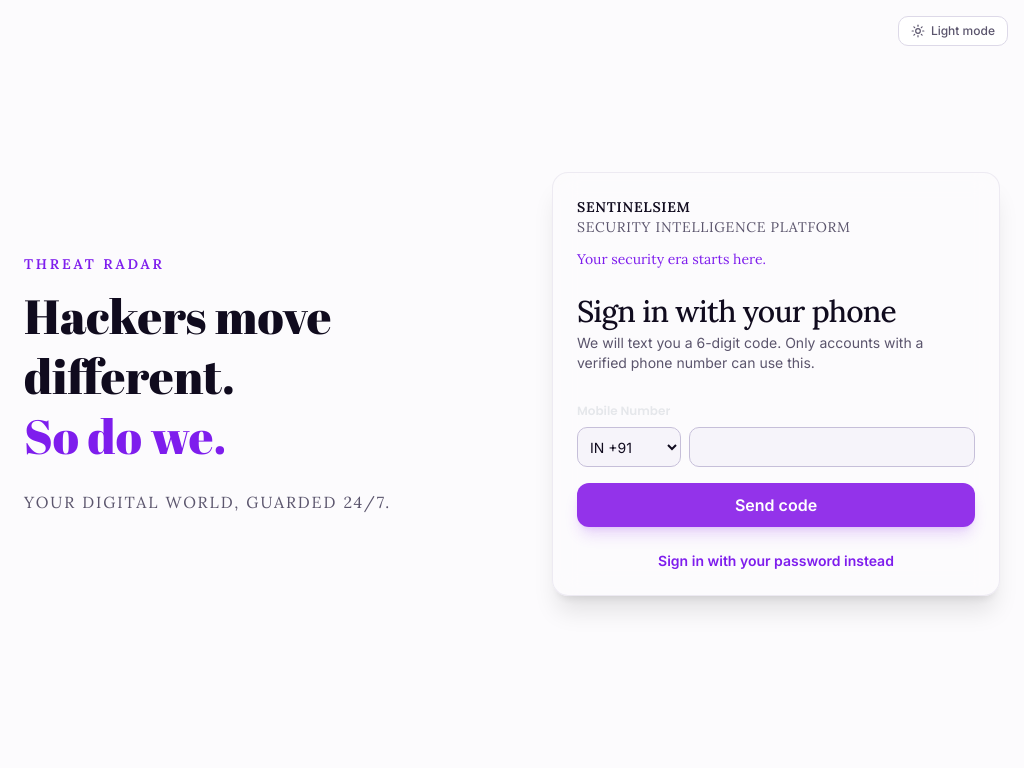
Test case: PhoneLogin page › shows the backend error for a wrong code
Type "98765 43210" into the field labelled "Mobile Number".
click(832, 447); type("98765 43210")  # box [689,427,975,467]
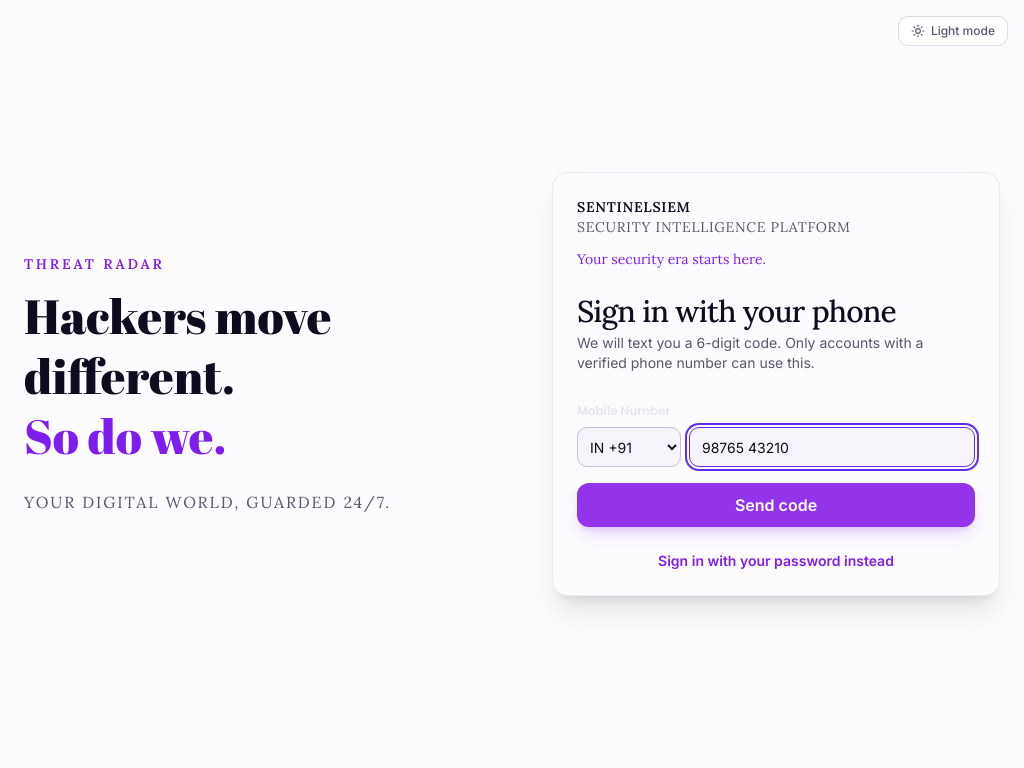
Click the button "Send code".
click(776, 505)  # box [577,483,975,527]
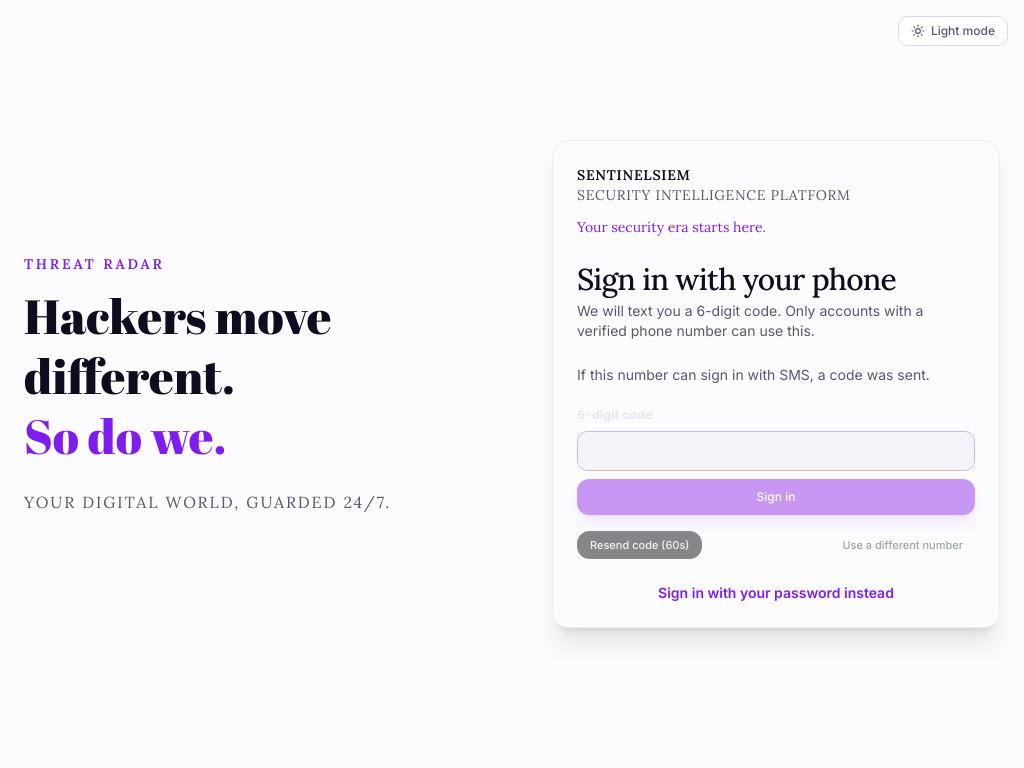
Type "000000" into the field labelled "6-digit code".
click(776, 451); type("000000")  # box [577,431,975,471]
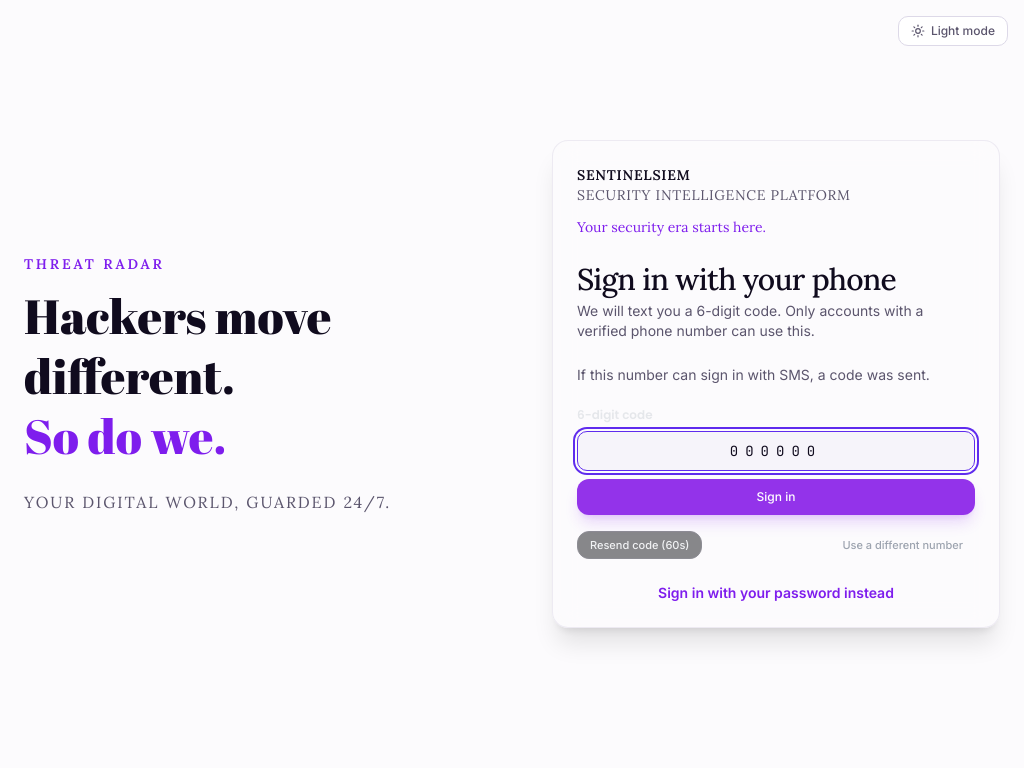
Click the button "Sign in".
click(776, 497)  # box [577,479,975,515]
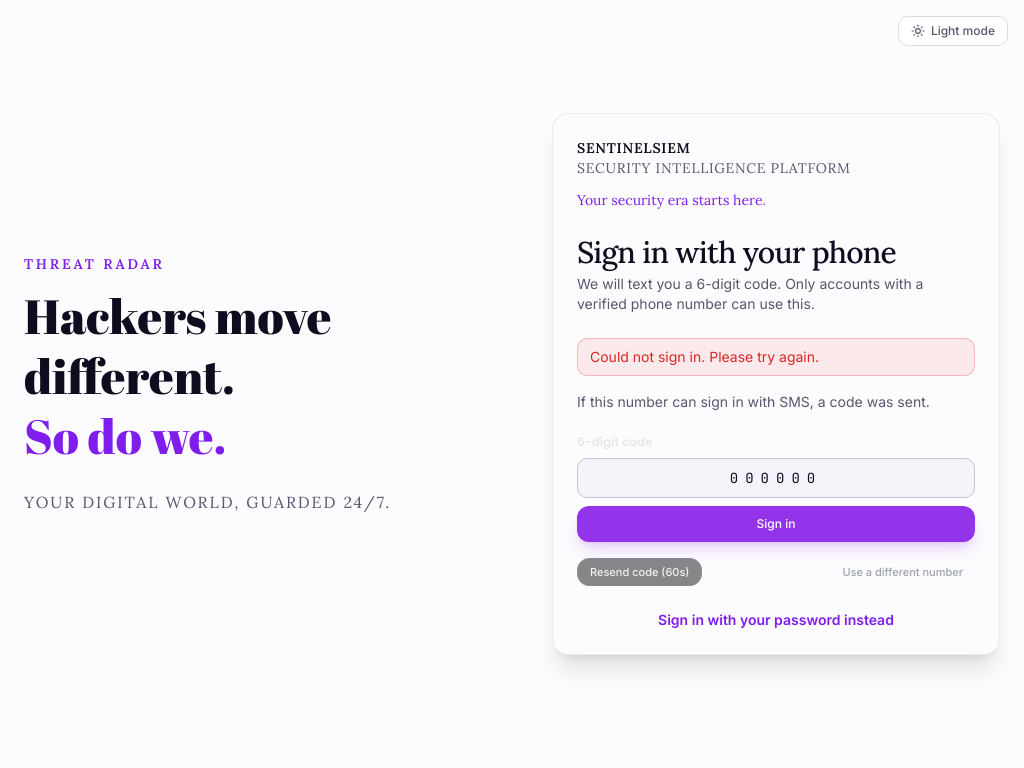
Expected: the message "Could not sign in. Please try again." is shown, [577,338,975,376]
